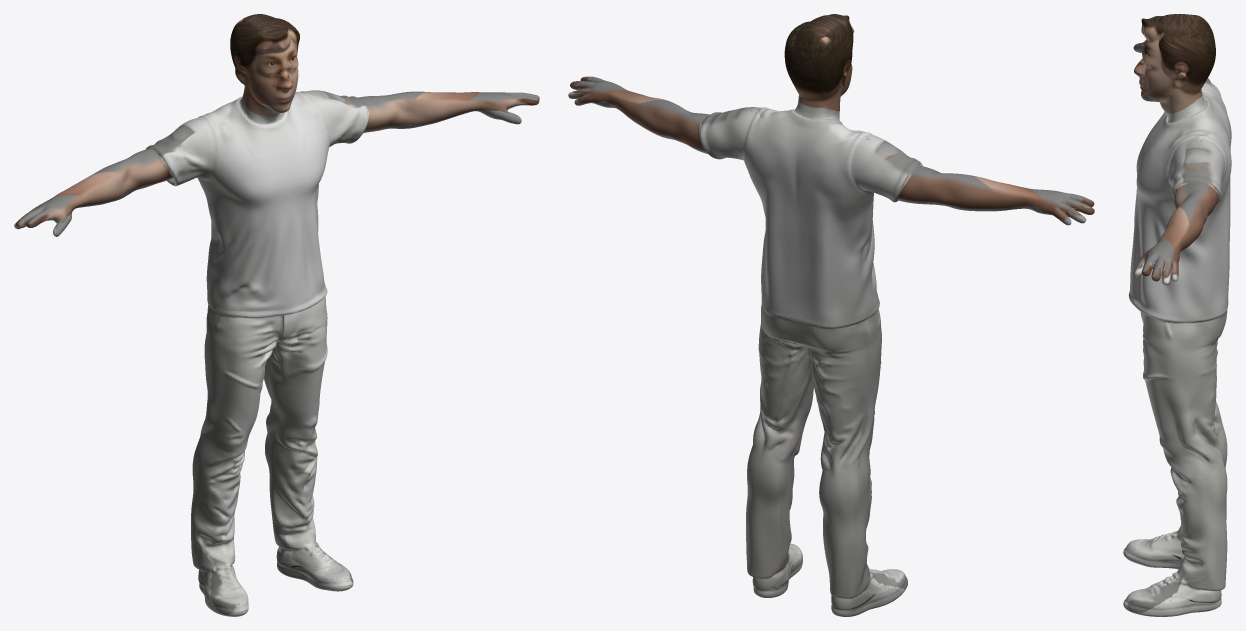
File: player1.glb
3 renders of one model, left to right at view 1: azimuth 30°, elevation 25°; view 2: azimuth 150°, elevation 25°; view 3: azimuth 270°, elevation 25°, orthographic.
Parts seen in each view (by area): view 1: tripo_node_a398de30-59a3-45b0-b623-928927685b0b; view 2: tripo_node_a398de30-59a3-45b0-b623-928927685b0b; view 3: tripo_node_a398de30-59a3-45b0-b623-928927685b0b.
Part boxes in pixels (x1,y1,x2,y2): tripo_node_a398de30-59a3-45b0-b623-928927685b0b: [14, 14, 539, 616]; tripo_node_a398de30-59a3-45b0-b623-928927685b0b: [568, 14, 1094, 616]; tripo_node_a398de30-59a3-45b0-b623-928927685b0b: [1123, 14, 1231, 616].
Size of the model in its own units: 0.9582 by 1 by 0.1721.
Materials: 1 (1 with a texture image).
